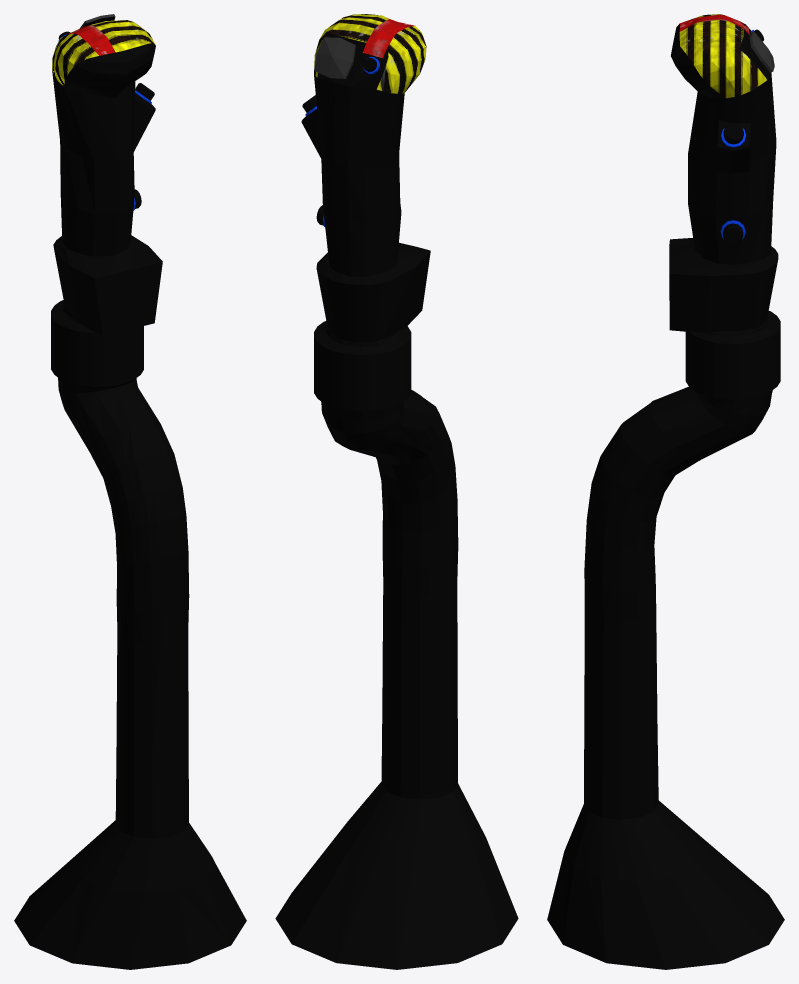
Rendered from yoke.obj.
The picture shows the model from 3 angles, left to right: view 1: azimuth 30°, elevation 25°; view 2: azimuth 150°, elevation 25°; view 3: azimuth 270°, elevation 25°; orthographic projection. The views are drawn at different scales.
Parts seen in each view (by area): view 1: yoke, base; view 2: yoke, base, chapeau; view 3: yoke, base.
Boxes of the visible parts, left/top/right/bottom form: yoke: left=51, top=20, right=189, bottom=838; base: left=14, top=820, right=246, bottom=969; yoke: left=301, top=14, right=458, bottom=799; base: left=275, top=781, right=518, bottom=969; chapeau: left=314, top=37, right=355, bottom=78; yoke: left=584, top=14, right=780, bottom=819; base: left=547, top=800, right=784, bottom=969.
Bounding box in the file's own units: 0.1011 × 0.4201 × 0.1011.
1 material, 1 textured.
